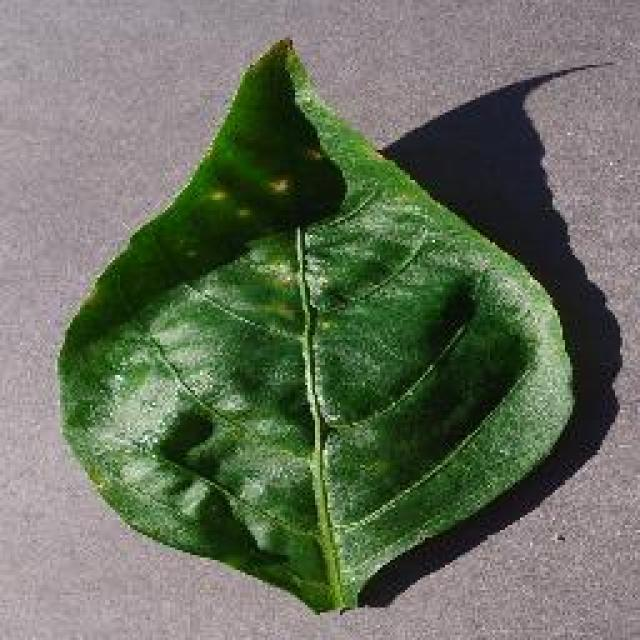Chilli_Bacterial_Spot: (52, 33, 580, 615), (200, 143, 348, 235), (155, 405, 217, 465), (258, 168, 298, 202), (202, 180, 230, 208)
